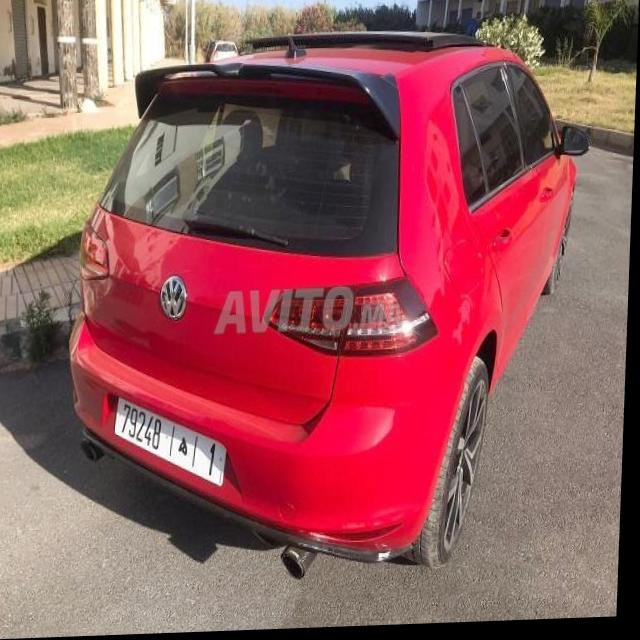License-Plate: (119, 400, 230, 487)
